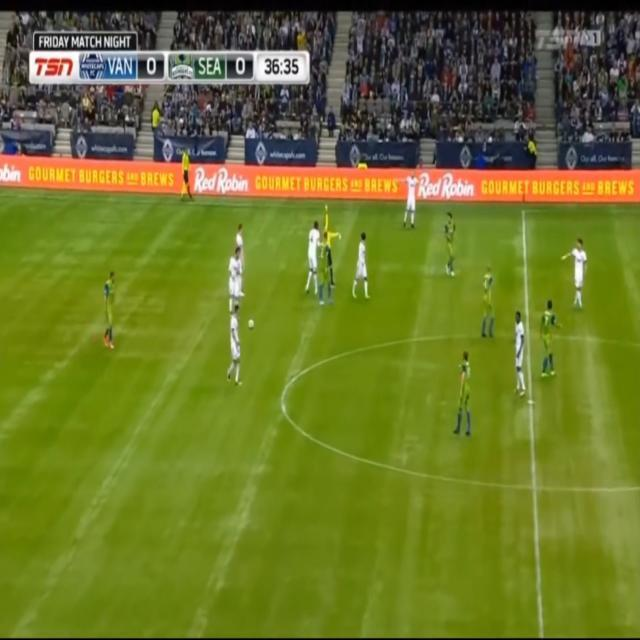football: (245, 320, 261, 333)
